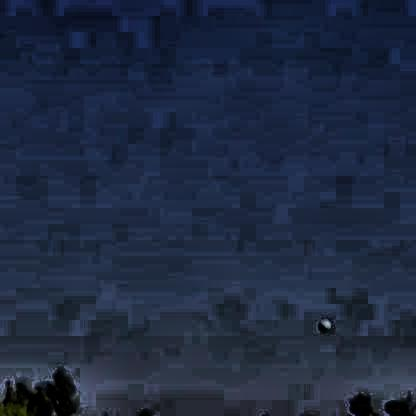golfball: (315, 314, 329, 330)
